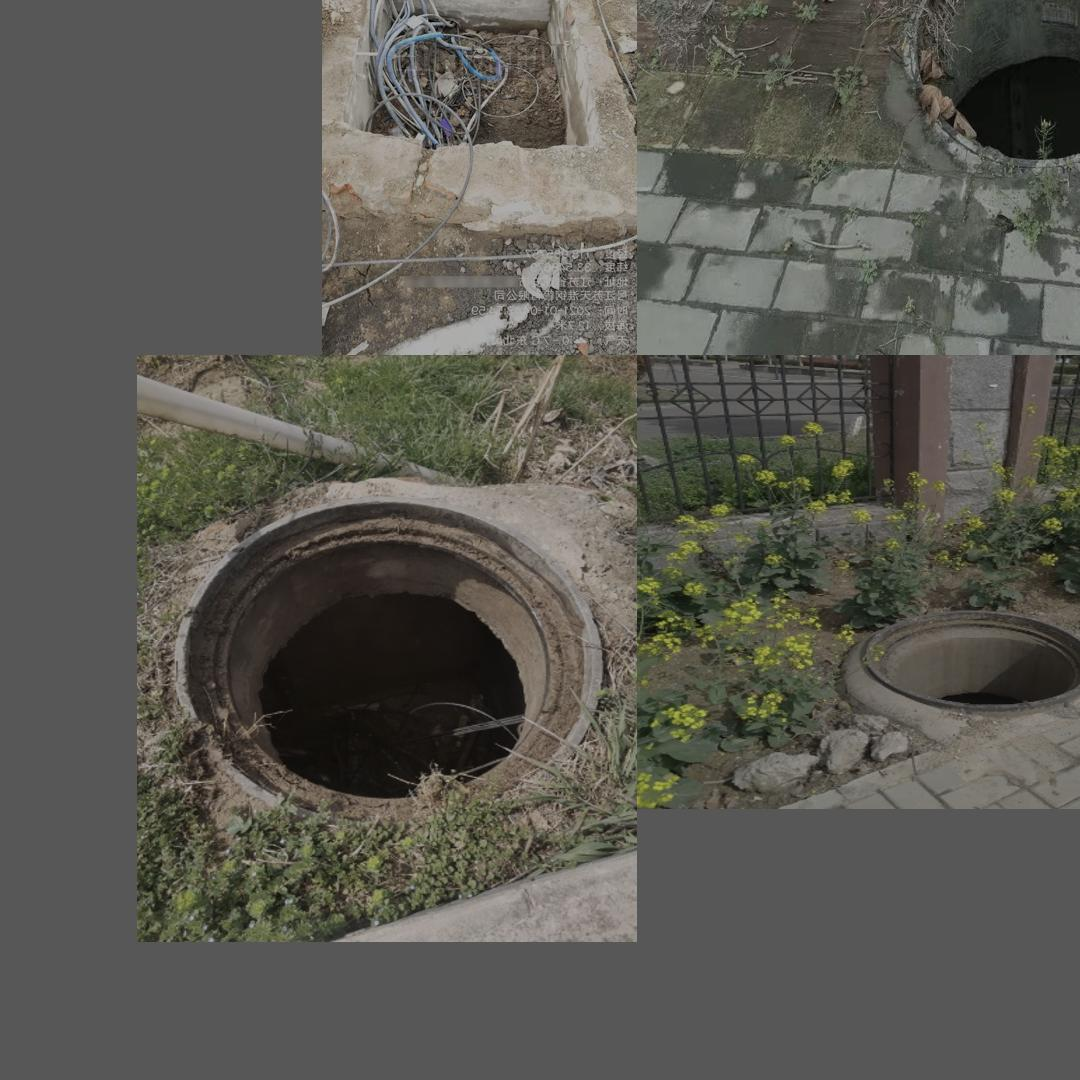lose: (174, 493, 604, 837), (333, 0, 602, 151), (907, 0, 1080, 158), (860, 609, 1080, 714)
